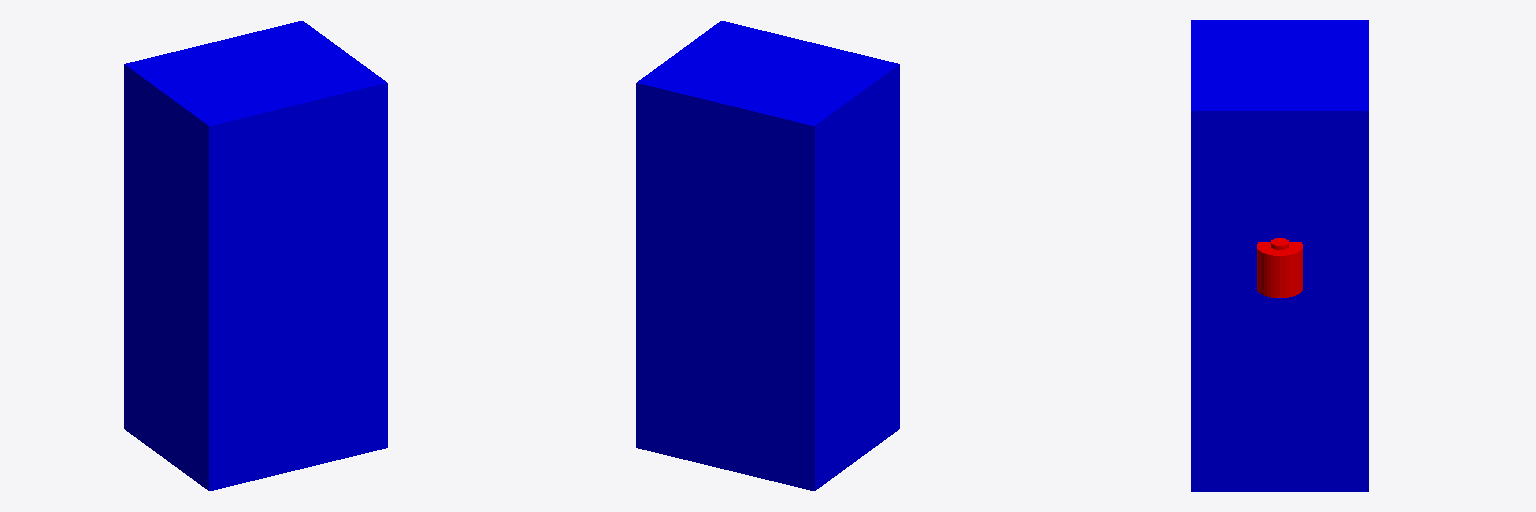
URDF robot description (my_robot):
<robot name="my_robot">
  <!-- Material 정의 -->
  <material name="blue">
    <color rgba="0 0 1 1"/>
  </material>
  <material name="red">
    <color rgba="1 0 0 1"/>
  </material>

  <!-- World link -->
  <link name="world"/>

  <!-- Base link -->
  <link name="base_link">
    <visual>
      <geometry>
        <box size="0.46 0.38 0.9"/> <!-- 로봇 본체 -->
      </geometry>
      <material name="blue"/>
    </visual>
    <visual>
      <geometry>
        <cylinder length="0.1" radius="0.02"/> <!--화살표-->
      </geometry>
      <material name="red"/>
      <origin xyz="0.25 0 0.1" rpy="0 0 0"/> <!--로봇 앞쪽 화살표-->
    </visual>
  </link>

  <!-- Laser sensor -->
  <link name="laser">
    <visual>
      <geometry>
        <cylinder length="0.1" radius="0.05"/> <!-- 레이저 센서 -->
      </geometry>
      <material name="red"/>
    </visual>
  </link>

  <!-- Joints -->
  <!-- Base link와 world 간 고정 -->
  <joint name="base_joint" type="fixed">
    <parent link="world"/>
    <child link="base_link"/>
    <origin xyz="0 0 0" rpy="0 0 0"/> <!-- 베이스 링크 높이 설정 -->
  </joint>

  <!-- Laser와 base_link 간 고정 -->
  <joint name="laser_joint" type="fixed">
    <parent link="base_link"/>
    <child link="laser"/>
    <origin xyz="0.25 0.0 0.09" rpy="0 0 0"/> <!-- 라이다의 물리적 위치 설정 -->
  </joint>
</robot>

--- Render facts (derived) ---
The picture shows the robot from 3 angles, left to right: view 1: azimuth 30°, elevation 25°; view 2: azimuth 150°, elevation 25°; view 3: azimuth 270°, elevation 25°; orthographic projection.
Robot: my_robot — 3 links, 2 joints (2 fixed); root link world; default pose: all joints at 0.
Links seen in each view (by area): view 1: base_link; view 2: base_link; view 3: base_link, laser.
Link boxes in pixels (box(x1,y1,x2,y2)): base_link: box(124, 21, 387, 490); base_link: box(636, 21, 899, 490); base_link: box(1191, 20, 1368, 491); laser: box(1257, 242, 1302, 297).
Bounding box of the posed robot: 0.53 × 0.38 × 0.9 m (x, y, z).
Geometry: primitives only (box / cylinder / sphere), no mesh files.
